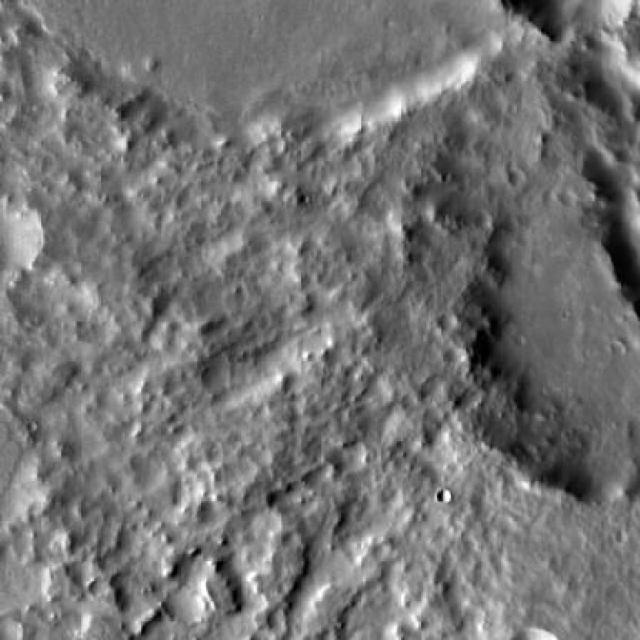crater: (16, 0, 504, 142), (0, 198, 45, 270), (0, 620, 32, 640)
